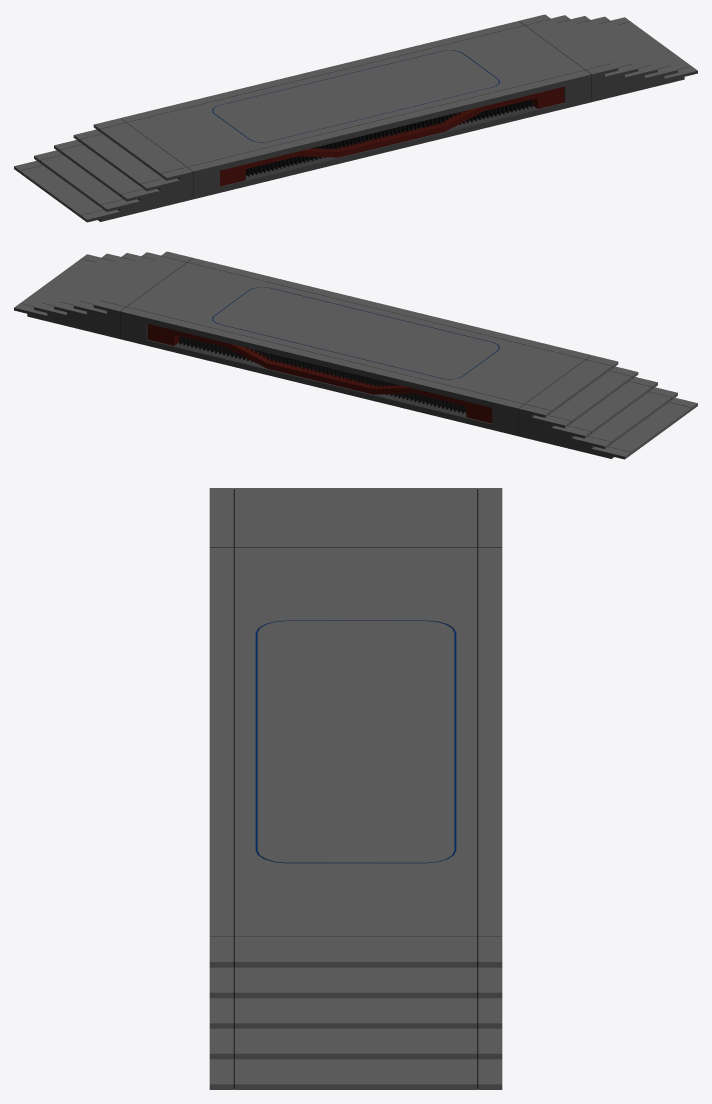
The model's file is W_O_Playground_Stair_001_L0.fbx.
3 views of the same model, one above another, from view 1: azimuth 30°, elevation 25°; view 2: azimuth 150°, elevation 25°; view 3: azimuth 270°, elevation 25° (orthographic). The views are drawn at different scales.
Visible parts, largest first — view 1: W_O_Playground_Stair_001_L0; view 2: W_O_Playground_Stair_001_L0; view 3: W_O_Playground_Stair_001_L0.
Boxes of the visible parts, x1=… form: W_O_Playground_Stair_001_L0: x1=14, y1=14, x2=697, y2=222; W_O_Playground_Stair_001_L0: x1=14, y1=251, x2=697, y2=459; W_O_Playground_Stair_001_L0: x1=209, y1=488, x2=502, y2=1089.
Size of the model in its own units: 23 by 1 by 4.77.
